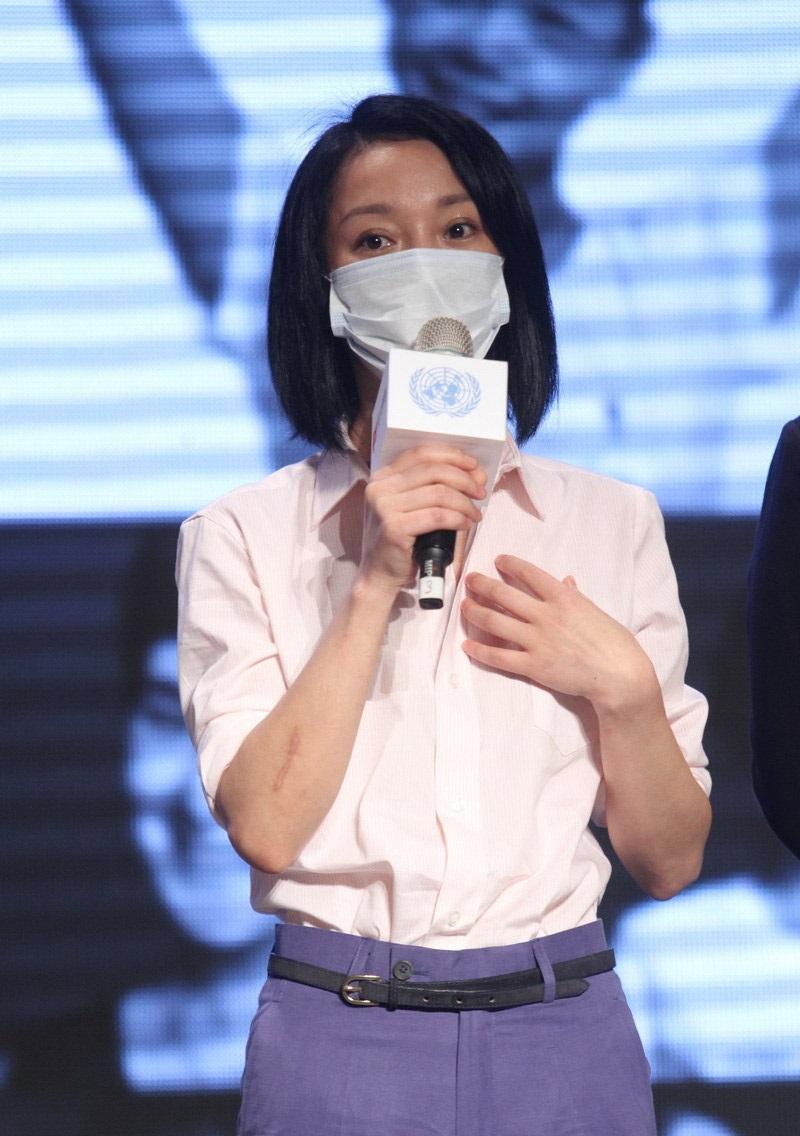face_mask: (327, 122, 507, 374)
